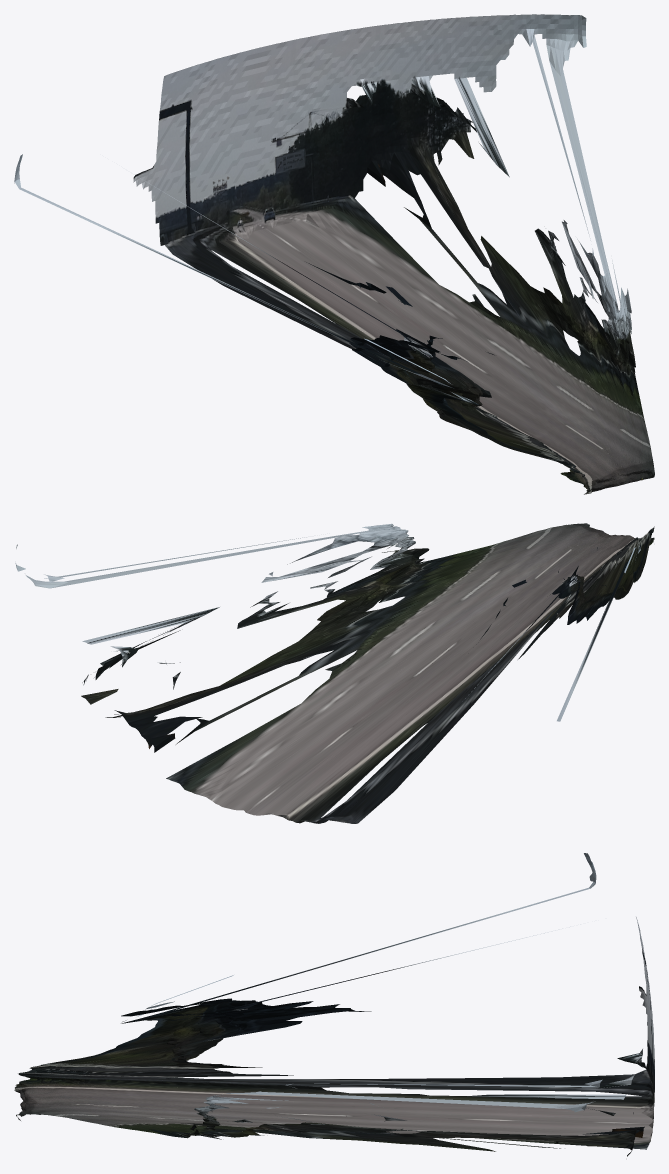
3 views of the same model, one above another, from view 1: azimuth 30°, elevation 25°; view 2: azimuth 150°, elevation 25°; view 3: azimuth 270°, elevation 25° (orthographic). The views are drawn at different scales.
Parts seen in each view (by area): view 1: defaultobject; view 2: defaultobject; view 3: defaultobject.
Boxes of the visible parts, x1=… form: defaultobject: x1=14, y1=14, x2=654, y2=494; defaultobject: x1=15, y1=523, x2=654, y2=823; defaultobject: x1=14, y1=853, x2=654, y2=1156.
Bounding box in the file's own units: 39.28 × 12.47 × 44.63.
1 material, 1 textured.
